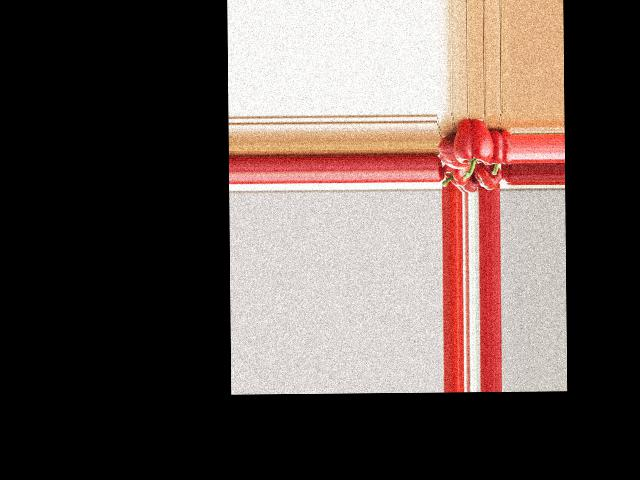bell_pepper: (440, 163, 469, 187)
